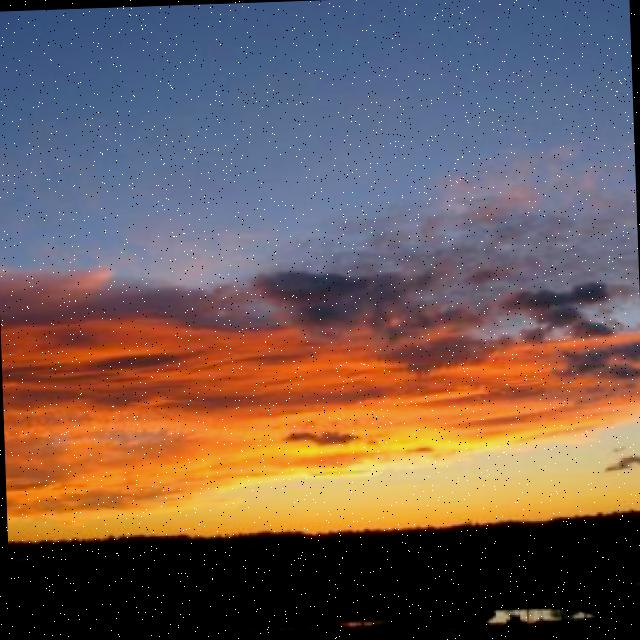As: (1, 109, 640, 511)
